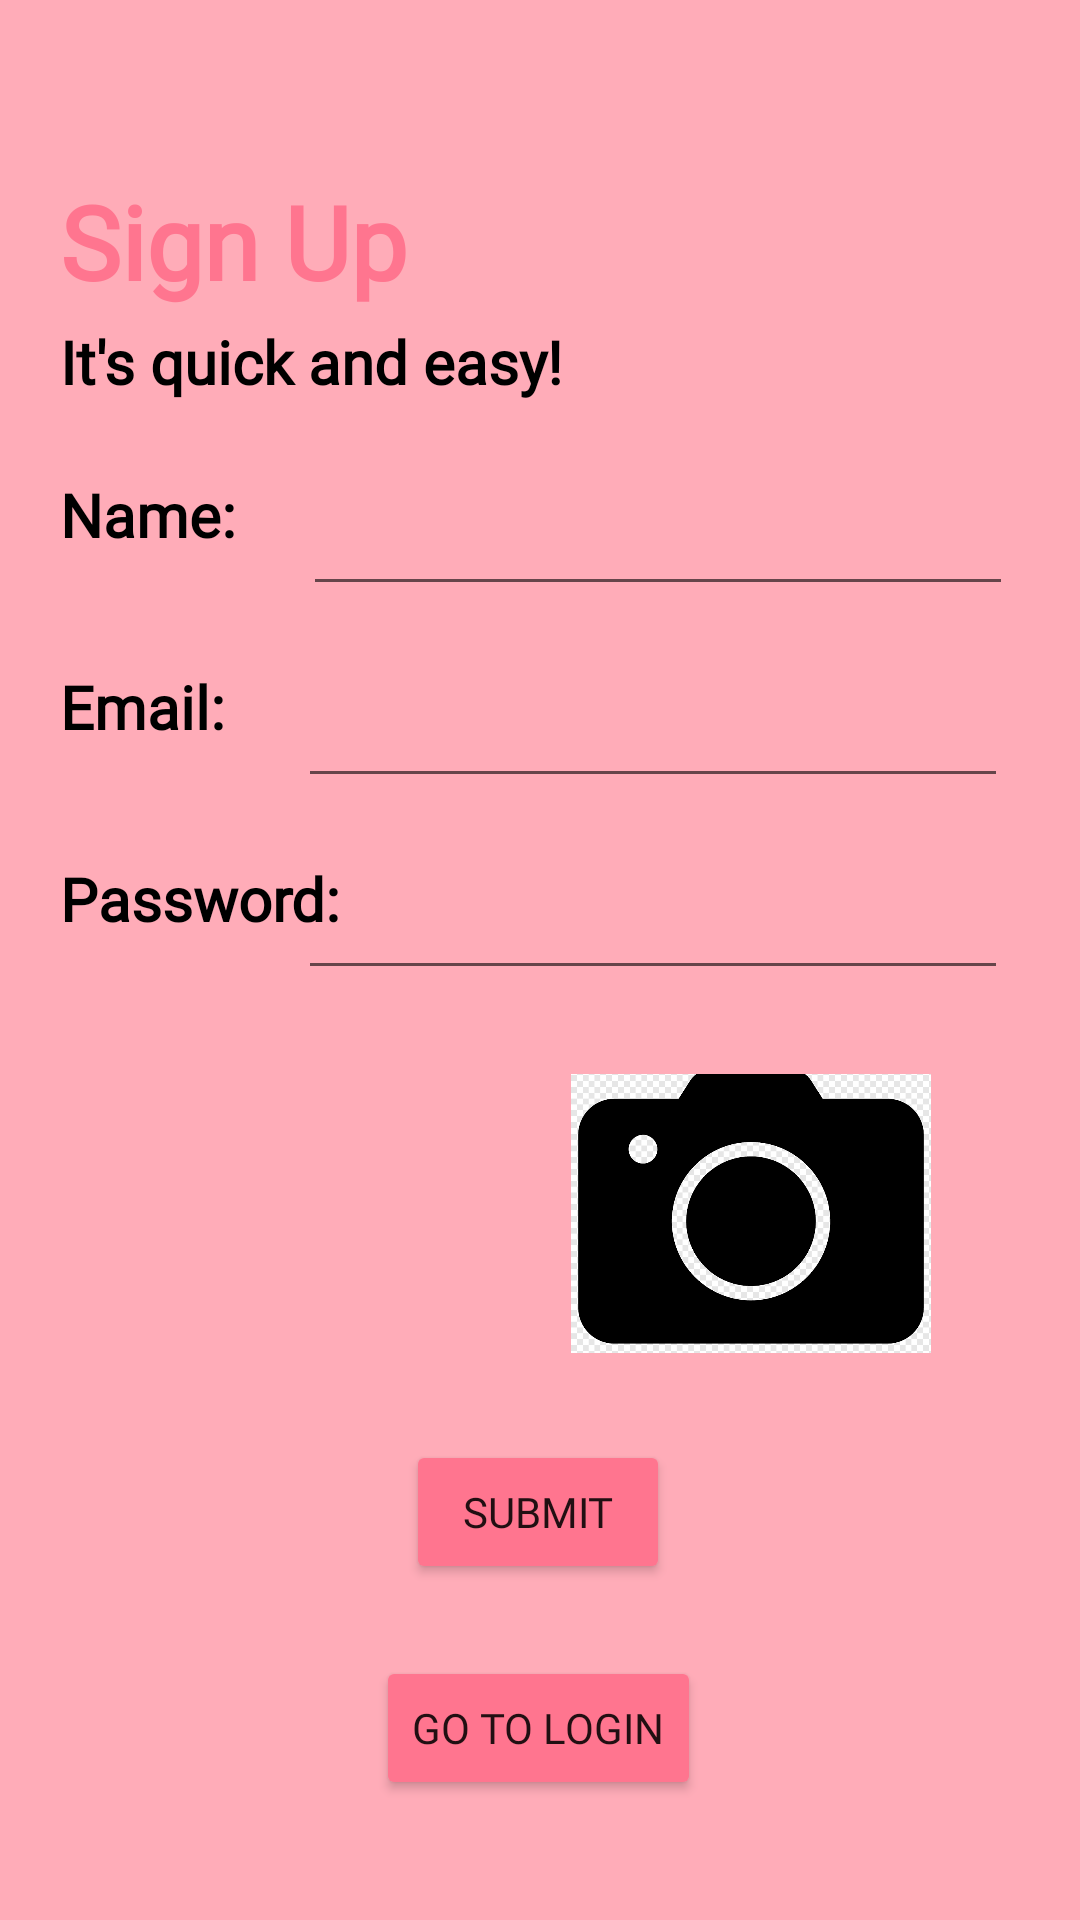

Screen size 1080x1920. Icon name, then its center in pixels as (x=x, y=y):
cam: (x=751, y=1213)
